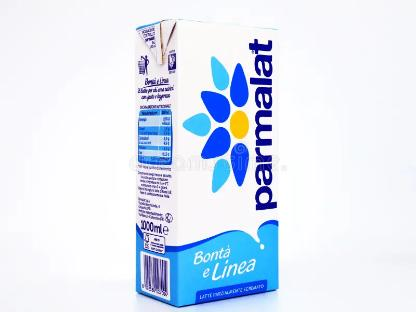Others: (133, 14, 287, 308)
